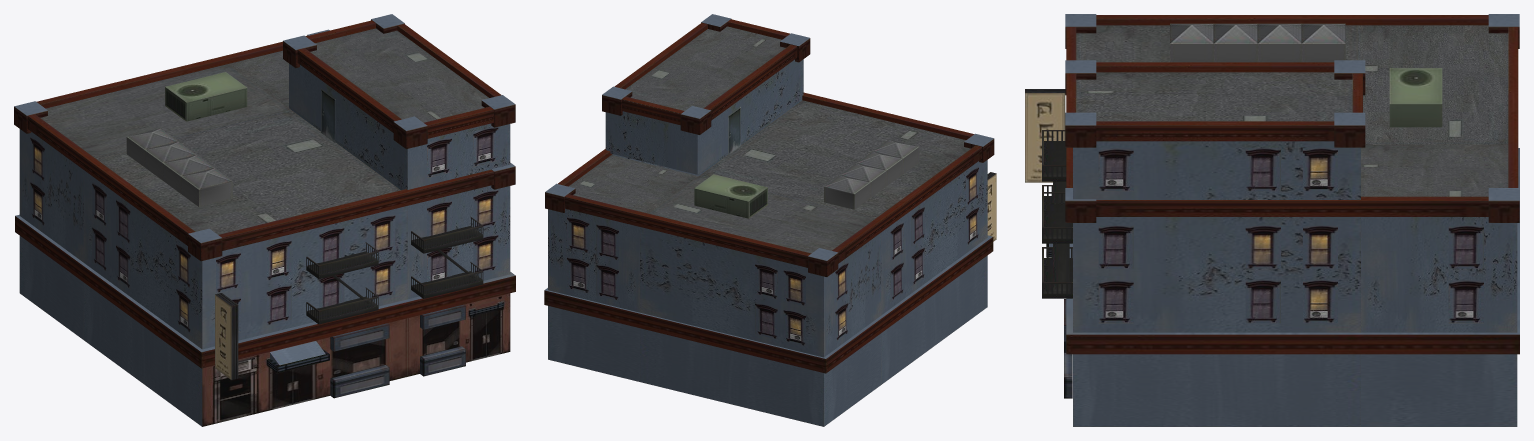
3 views of the same model, side by side, from view 1: azimuth 30°, elevation 25°; view 2: azimuth 150°, elevation 25°; view 3: azimuth 270°, elevation 25° (orthographic). The views are drawn at different scales.
Parts seen in each view (by area): view 1: Model__FillerBuildings1; view 2: Model__FillerBuildings1; view 3: Model__FillerBuildings1.
Part boxes in pixels (bbox=[...]): Model__FillerBuildings1: bbox=[14, 14, 515, 426]; Model__FillerBuildings1: bbox=[544, 14, 996, 426]; Model__FillerBuildings1: bbox=[1025, 14, 1519, 426].
Size of the model in its own units: 8.68 by 6.56 by 9.7.
Materials: 1 (1 with a texture image).
